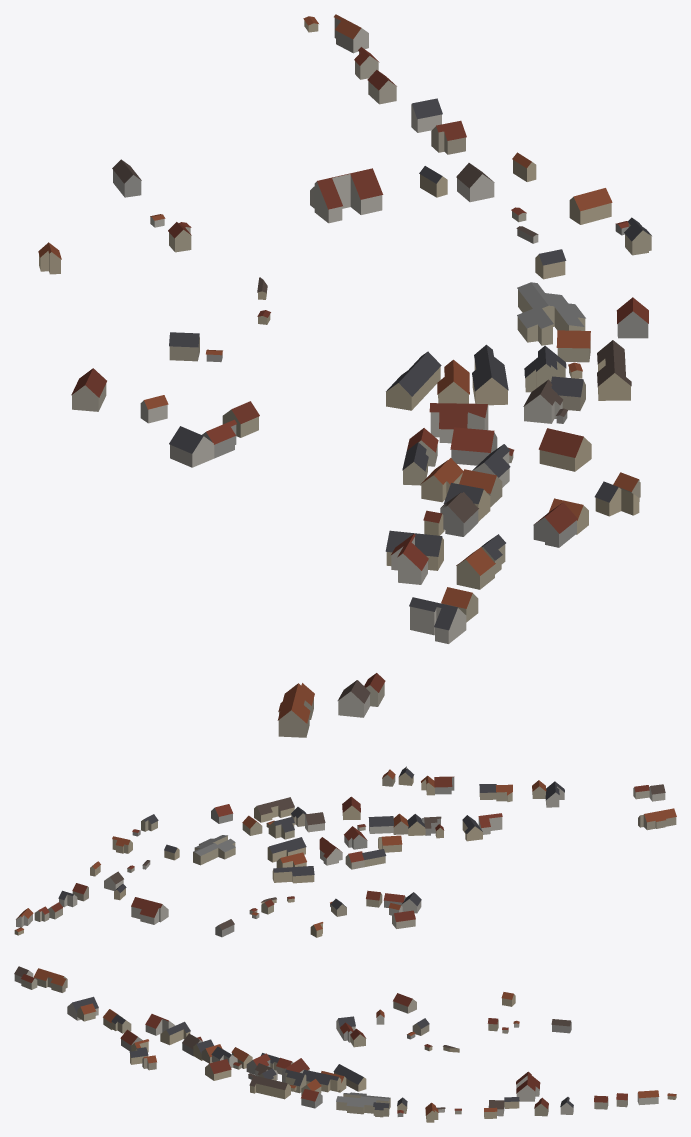
3 renders of one model, top to bottom at view 1: azimuth 30°, elevation 25°; view 2: azimuth 150°, elevation 25°; view 3: azimuth 270°, elevation 25°, orthographic. The views are drawn at different scales.
Visible parts, largest first — view 1: buildings; view 2: buildings; view 3: buildings.
Part boxes in pixels (left/top/right/bottom): buildings: left=38, top=14, right=651, bottom=737; buildings: left=14, top=766, right=676, bottom=937; buildings: left=14, top=966, right=676, bottom=1122.
Bounding box in the file's own units: 308 × 43.92 × 492.
